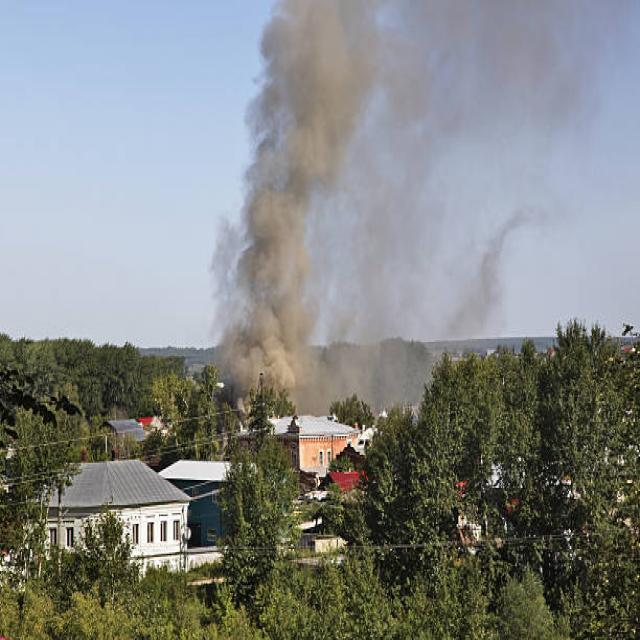Smoke: (224, 0, 363, 415)
